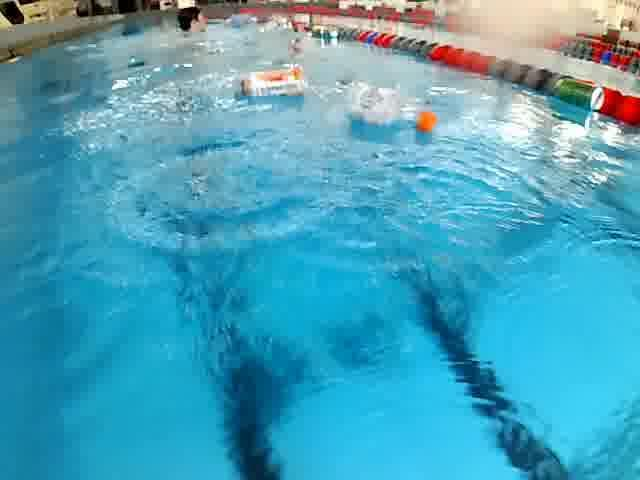Bottle: (339, 79, 442, 137), (231, 64, 307, 102)
Can: (547, 71, 607, 116)
